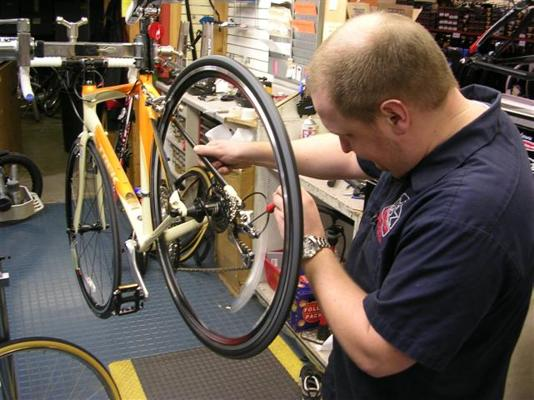person: (194, 9, 534, 400)
